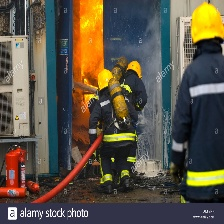fire: (73, 1, 103, 102)
